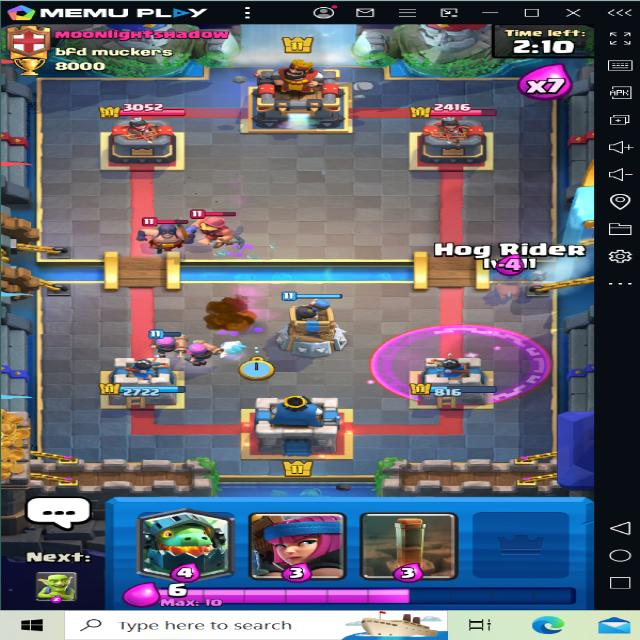Executioner: (137, 210, 197, 259)
Fisherman: (185, 203, 265, 244)
Rage: (370, 326, 550, 401)
